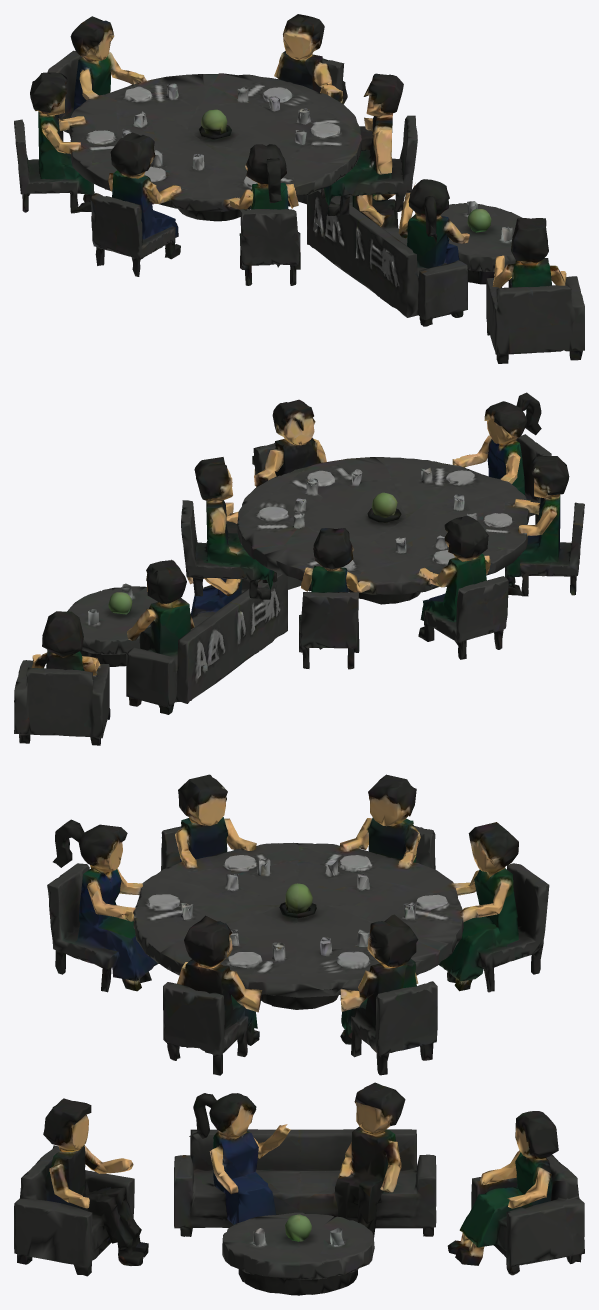
Rendered from mesas.glb.
3 views of the same model, one above another, from view 1: azimuth 30°, elevation 25°; view 2: azimuth 150°, elevation 25°; view 3: azimuth 270°, elevation 25° (orthographic). The views are drawn at different scales.
Visible parts, largest first — view 1: tripo_node_5a30754e-9555-4528-acc7-789c1121078c; view 2: tripo_node_5a30754e-9555-4528-acc7-789c1121078c; view 3: tripo_node_5a30754e-9555-4528-acc7-789c1121078c.
Part boxes in pixels (x1=…): tripo_node_5a30754e-9555-4528-acc7-789c1121078c: x1=14, y1=14, x2=584, y2=363; tripo_node_5a30754e-9555-4528-acc7-789c1121078c: x1=14, y1=392, x2=584, y2=745; tripo_node_5a30754e-9555-4528-acc7-789c1121078c: x1=14, y1=774, x2=584, y2=1295.
Bounding box in the file's own units: 0.9987 × 0.5107 × 0.9285.
1 material, 1 textured.
